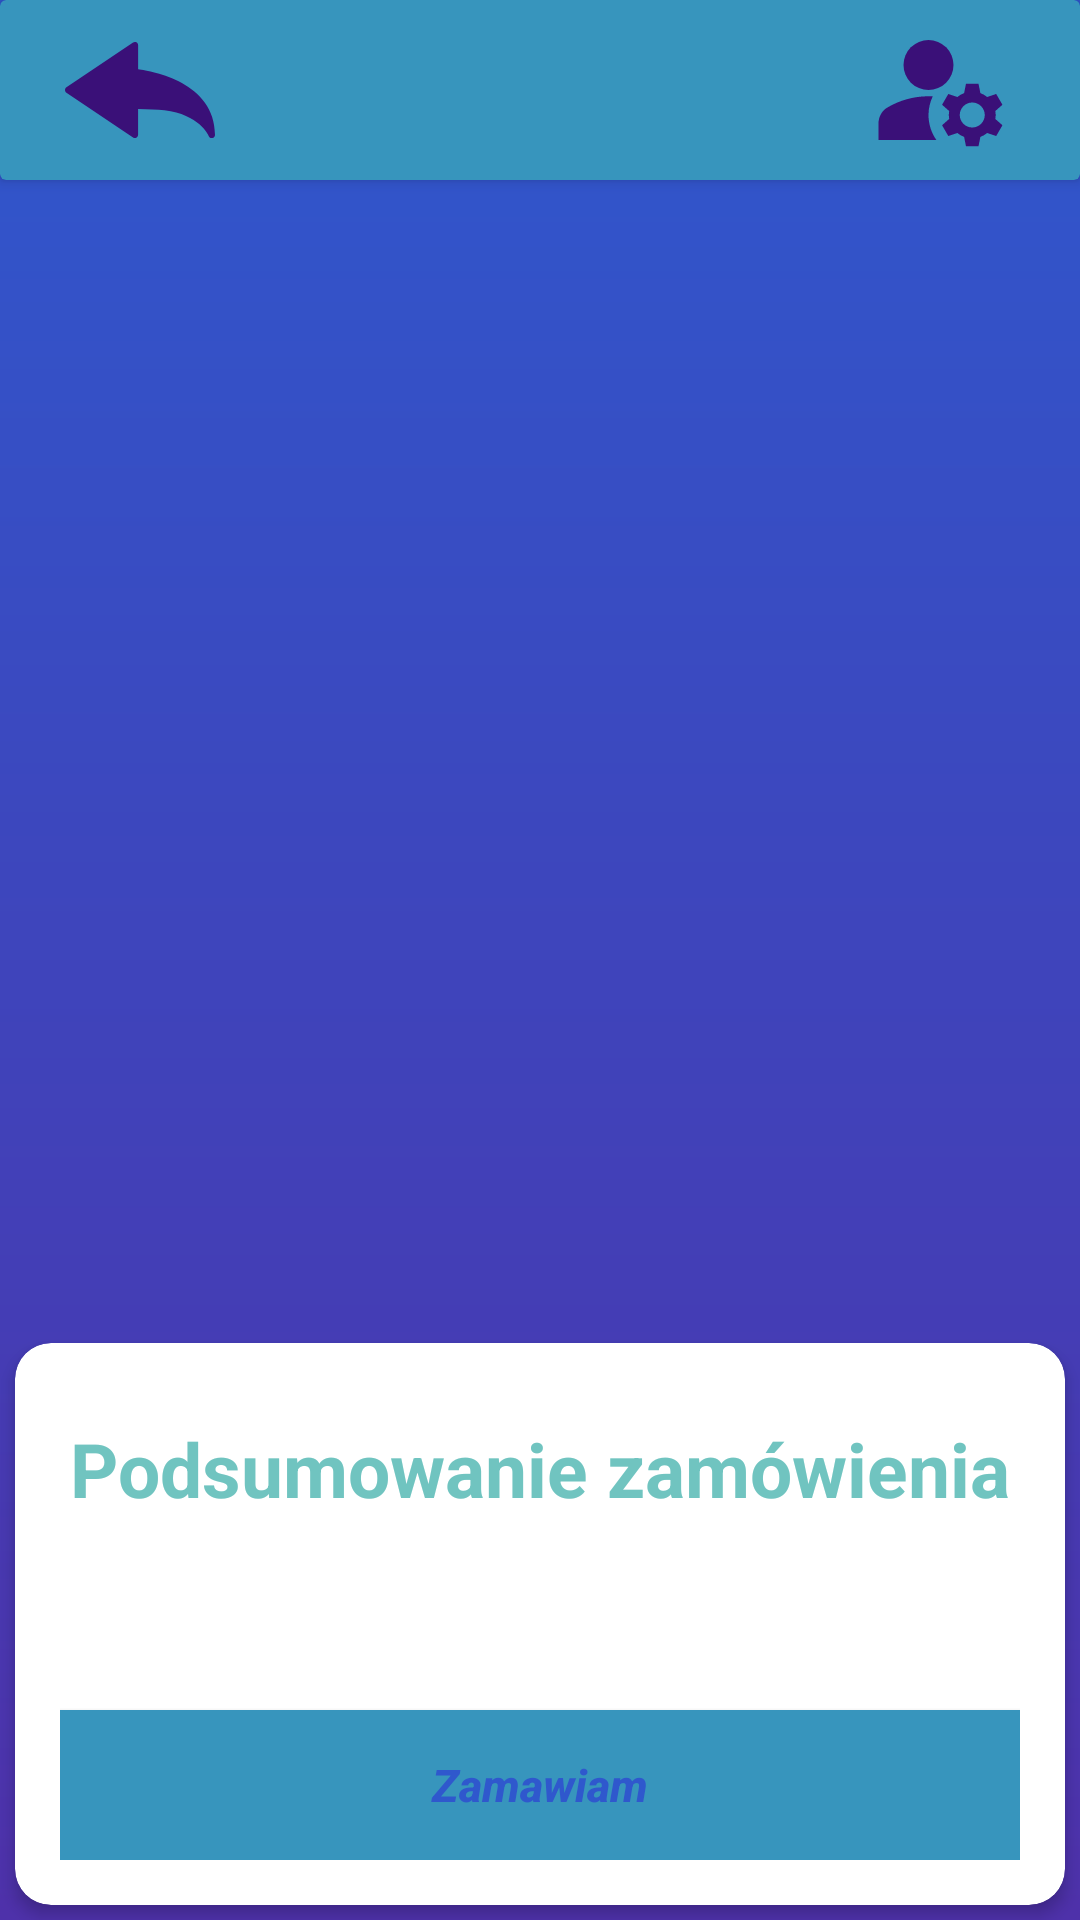

Locate icon controls on the screen. Image size 1080px x 1920px, boxes as [left=x1, top=y1, right=x2, bottom=y2].
back arrow: [left=65, top=42, right=215, bottom=138]
manage accounts: [left=878, top=40, right=1003, bottom=147]
